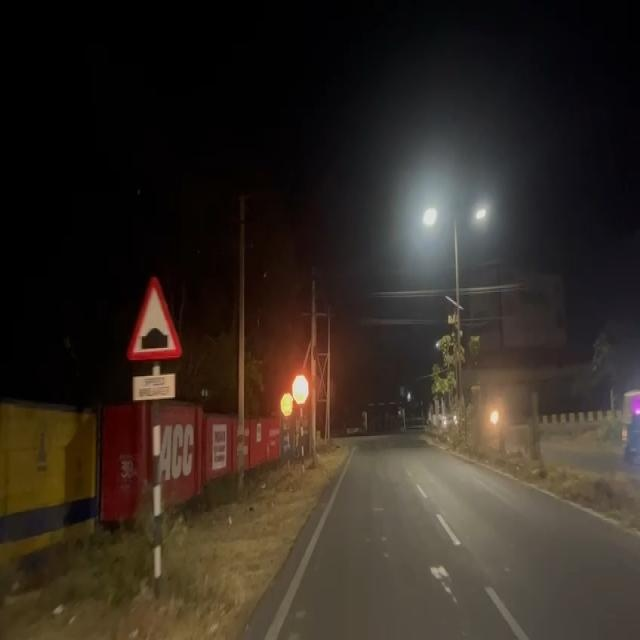bien_nguy_hiem: (122, 271, 182, 367)
